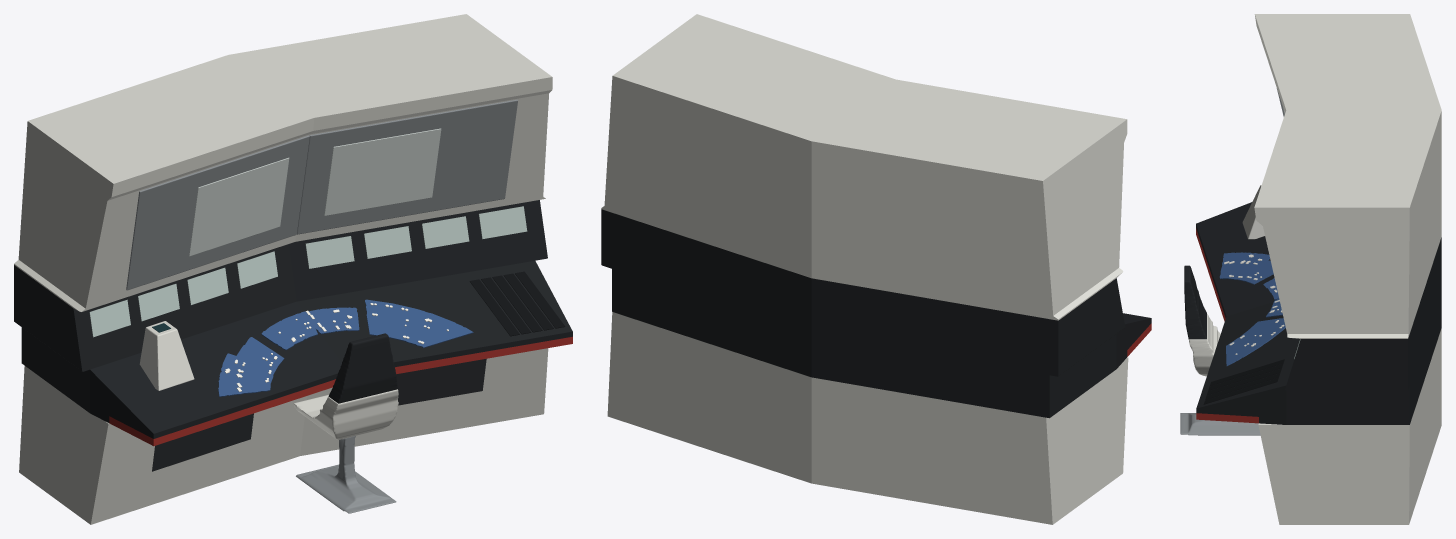
Rendered from engineering.glb.
The picture shows the model from 3 angles, left to right: view 1: azimuth 30°, elevation 25°; view 2: azimuth 150°, elevation 25°; view 3: azimuth 270°, elevation 25°; orthographic projection. The views are drawn at different scales.
Parts seen in each view (by area): view 1: engineering, engineering_housing_left, engineering_housing_right, engineering_pedestal_left, engineering_console_left, engineering_vi_panel_right, engineering_band_left, engineering_band_right, engineering_console_right, engineering_vi_panel_left, engineering_pedestal_right, engineering_chair_seat (+5 smaller); view 2: engineering_housing_left, engineering_housing_right, engineering_pedestal_left, engineering_pedestal_right, engineering_band_left, engineering_console_left, engineering_band_right, engineering_console_right; view 3: engineering_housing_right, engineering_pedestal_right, engineering_housing_left, engineering_console_right, engineering_band_right, engineering, engineering_console_left, engineering_chair_base, engineering_chair_back, engineering_chair_seat, engineering_scanner, engineering_lip_right.
Part boxes in pixels (bbox=[...]): engineering: bbox=[89, 128, 565, 471]; engineering_housing_left: bbox=[14, 55, 314, 311]; engineering_housing_right: bbox=[229, 14, 552, 241]; engineering_pedestal_left: bbox=[19, 366, 307, 524]; engineering_console_left: bbox=[21, 301, 341, 438]; engineering_vi_panel_right: bbox=[297, 99, 517, 234]; engineering_band_left: bbox=[14, 244, 296, 371]; engineering_band_right: bbox=[288, 200, 547, 301]; engineering_console_right: bbox=[297, 261, 572, 367]; engineering_vi_panel_left: bbox=[126, 135, 309, 290]; engineering_pedestal_right: bbox=[300, 348, 548, 455]; engineering_chair_seat: bbox=[293, 389, 398, 439]; engineering_housing_left: bbox=[811, 79, 1127, 320]; engineering_housing_right: bbox=[601, 14, 895, 278]; engineering_pedestal_left: bbox=[811, 357, 1128, 524]; engineering_pedestal_right: bbox=[607, 312, 811, 483]; engineering_band_left: bbox=[811, 278, 1125, 376]; engineering_console_left: bbox=[811, 313, 1151, 418]; engineering_band_right: bbox=[601, 209, 811, 334]; engineering_console_right: bbox=[612, 269, 811, 377]; engineering_housing_right: bbox=[1254, 110, 1441, 338]; engineering_pedestal_right: bbox=[1258, 328, 1441, 524]; engineering_housing_left: bbox=[1254, 14, 1441, 112]; engineering_console_right: bbox=[1196, 289, 1441, 424]; engineering_band_right: bbox=[1285, 237, 1441, 390]; engineering: bbox=[1203, 108, 1300, 404]; engineering_console_left: bbox=[1196, 202, 1275, 318]; engineering_chair_base: bbox=[1180, 413, 1260, 435]; engineering_chair_back: bbox=[1184, 265, 1206, 339]; engineering_chair_seat: bbox=[1188, 314, 1220, 376]; engineering_scanner: bbox=[1242, 185, 1264, 239]; engineering_lip_right: bbox=[1196, 413, 1258, 423].
Size of the model in its own units: 3.17 by 2.27 by 1.7.
